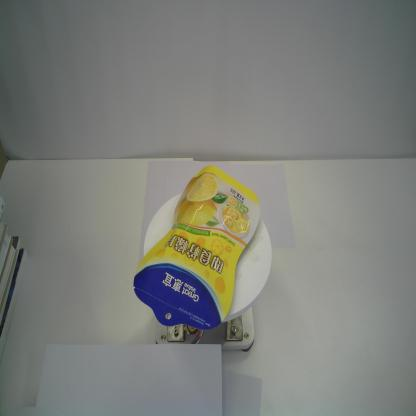Dried Fruit: (133, 163, 261, 332)
